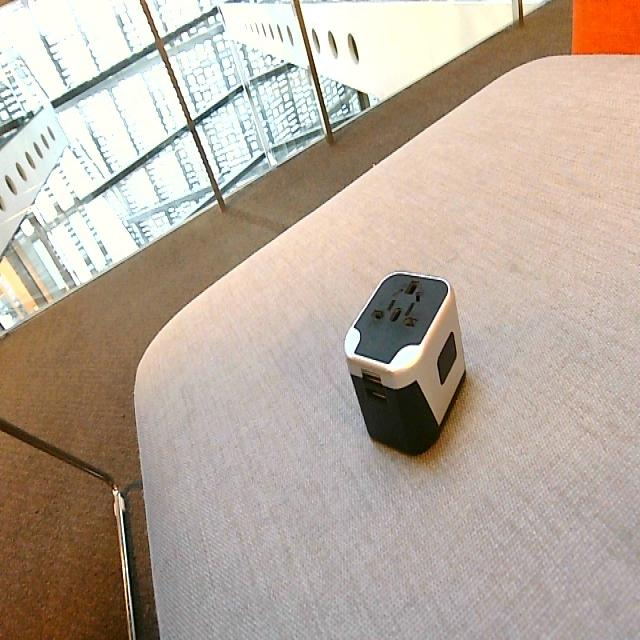adapter: (343, 268, 466, 456)
